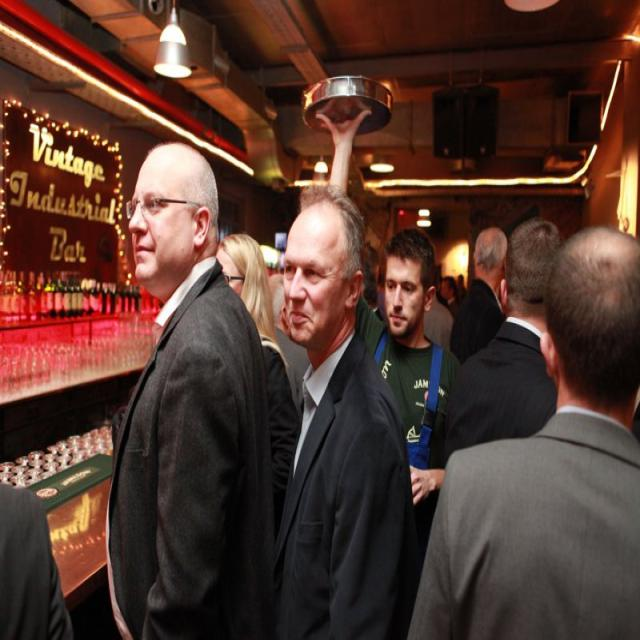body: (100, 128, 275, 639), (298, 71, 468, 556), (268, 178, 414, 639), (256, 218, 470, 388), (424, 218, 566, 471), (440, 215, 568, 472), (214, 232, 304, 548), (0, 471, 76, 638), (446, 225, 509, 368)
